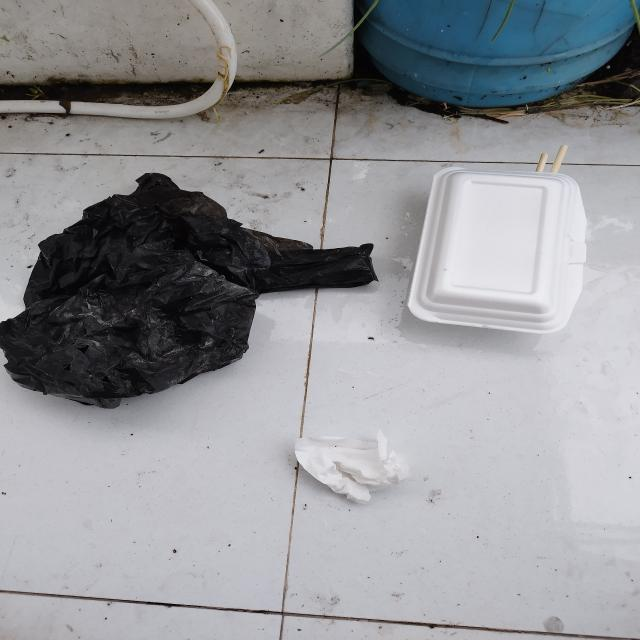bag: (0, 167, 385, 414)
foam box: (408, 167, 589, 335)
napkin: (292, 430, 412, 504)
